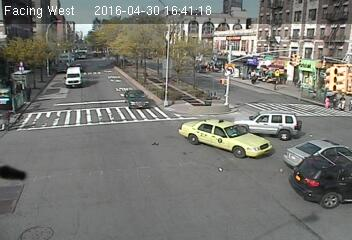neg: (74, 61, 90, 82), (158, 32, 173, 52), (208, 83, 223, 102), (52, 68, 66, 86), (130, 61, 142, 78), (136, 88, 147, 103), (189, 81, 198, 93), (112, 52, 121, 63), (152, 66, 160, 77)
pos: (21, 83, 36, 102), (334, 92, 348, 110), (324, 95, 335, 110)
